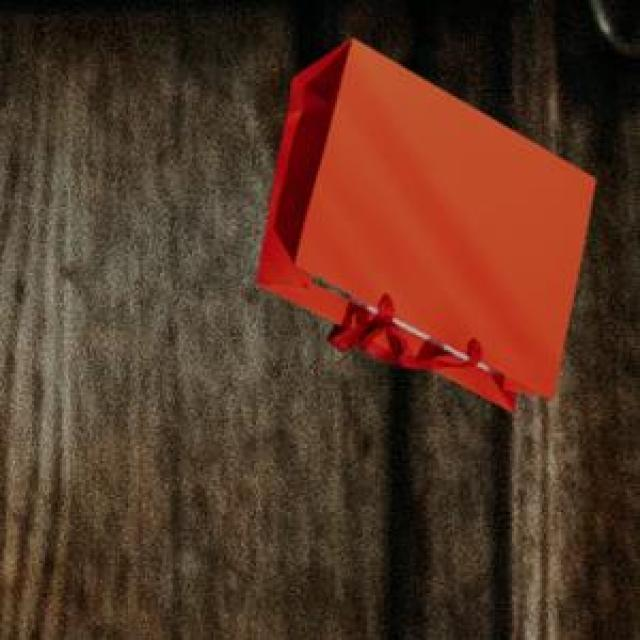paper: (252, 34, 591, 410)
